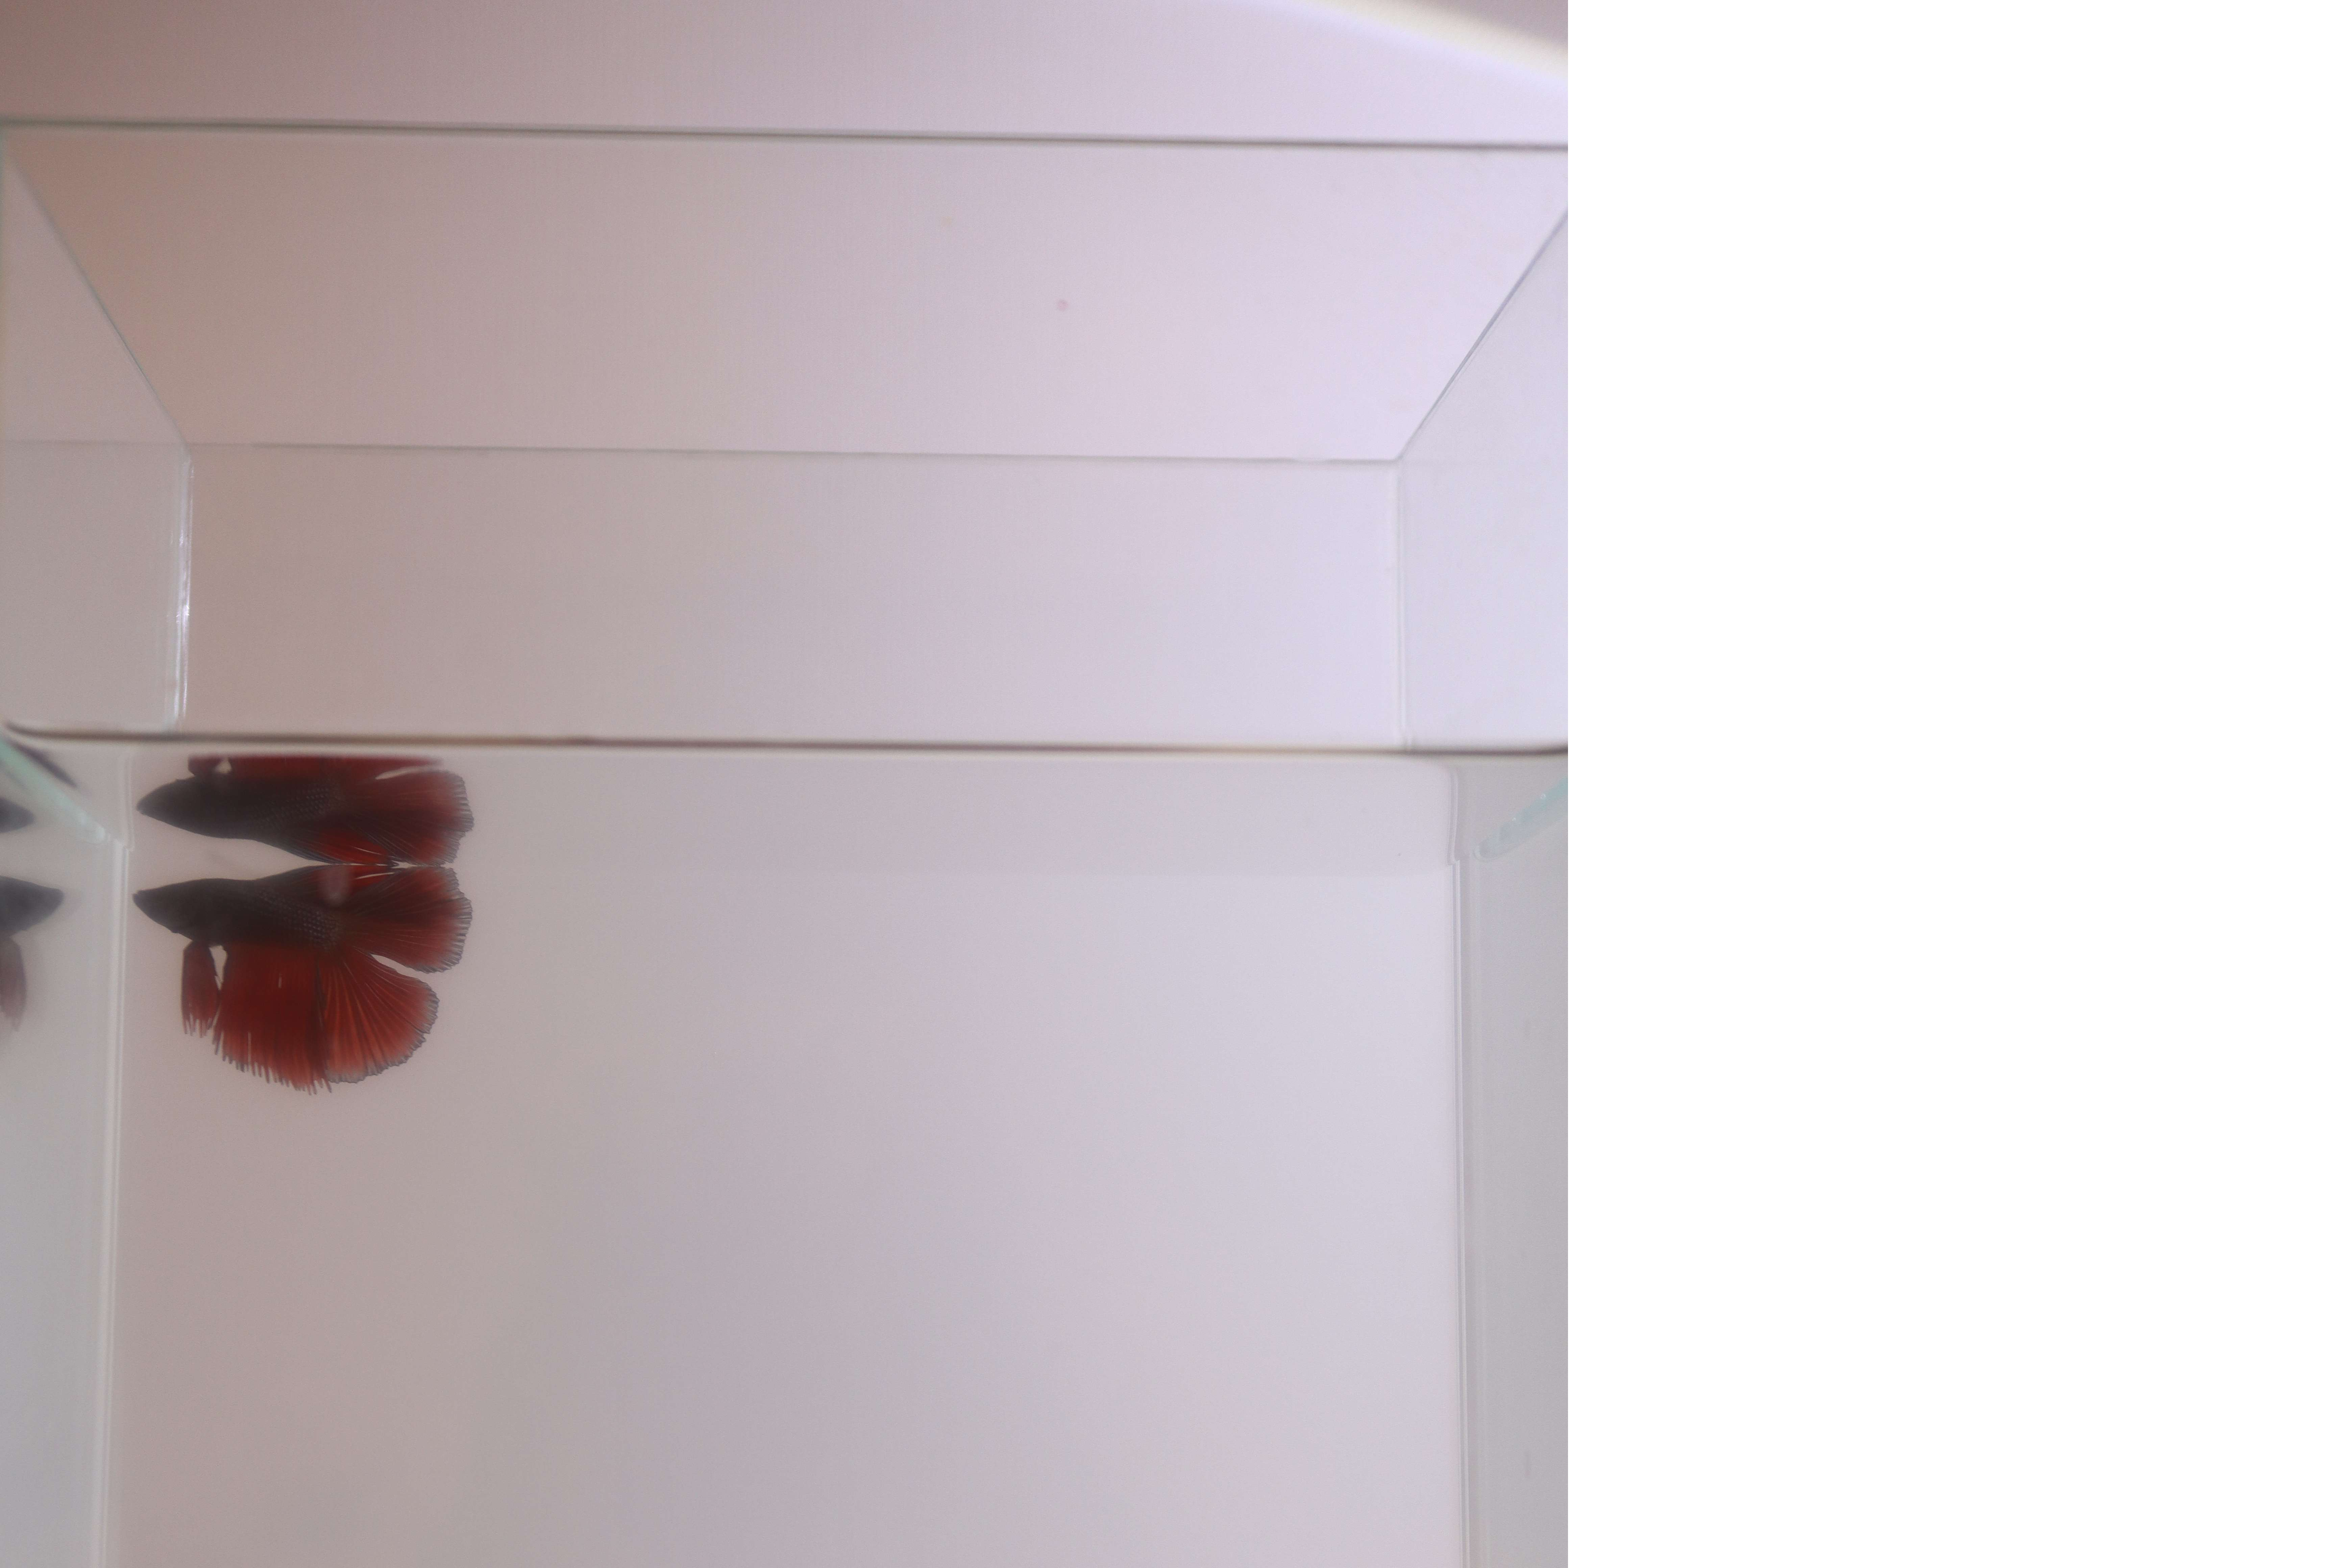fish: (122, 859, 478, 1095)
